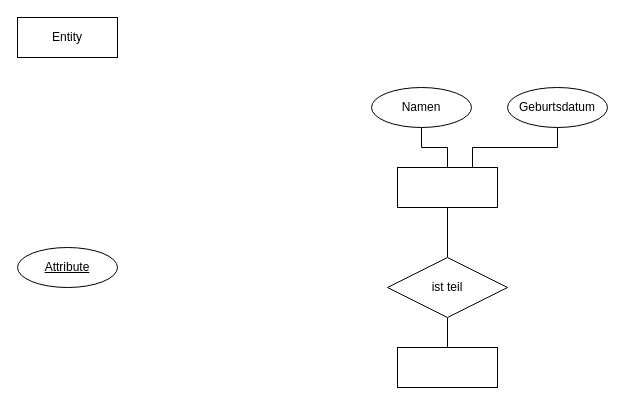
Image size: 625x405. Some labels were removed from this diagram. Here are the shapes that lost their labels. From the top down, the box of each, then its label:
(396, 166, 498, 208): Spieler_in
(396, 346, 498, 388): Verein
